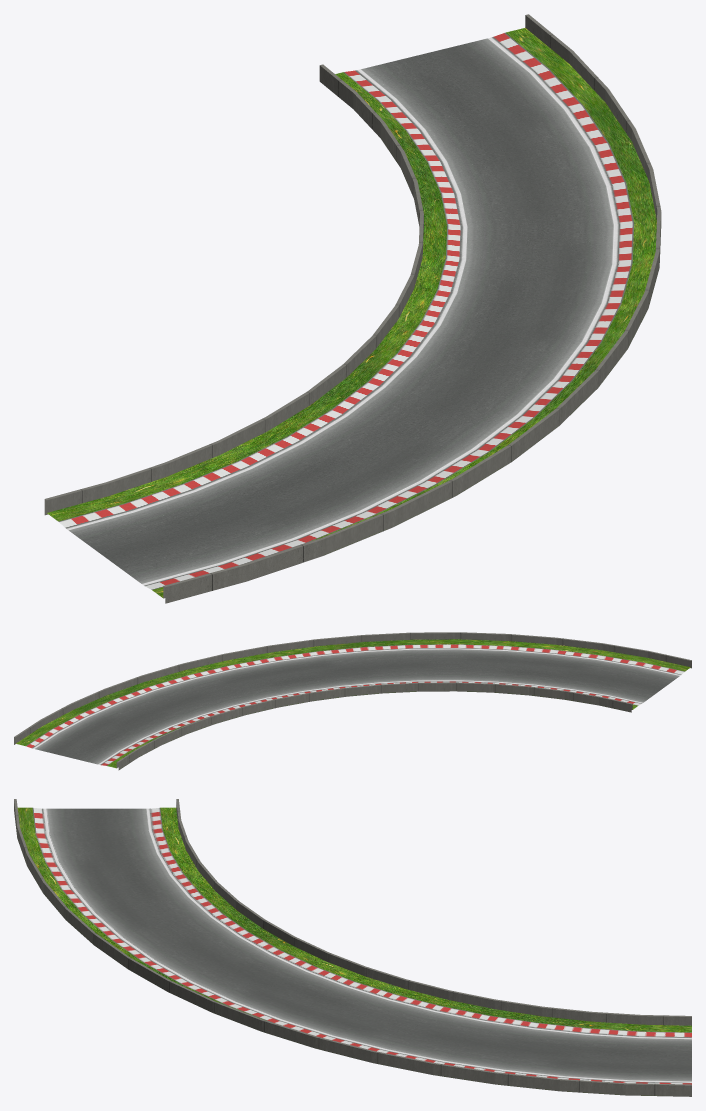
File: turn_long.fbx
3 renders of one model, top to bottom at view 1: azimuth 30°, elevation 25°; view 2: azimuth 150°, elevation 25°; view 3: azimuth 270°, elevation 25°, orthographic. The views are drawn at different scales.
Visible parts, largest first — view 1: 11; view 2: 11; view 3: 11.
Boxes of the visible parts, box(x1,y1,x2,y2) form: 11: box(44, 14, 661, 603); 11: box(14, 632, 691, 770); 11: box(14, 799, 691, 1096).
Size of the model in its own units: 729 by 13.34 by 729.
